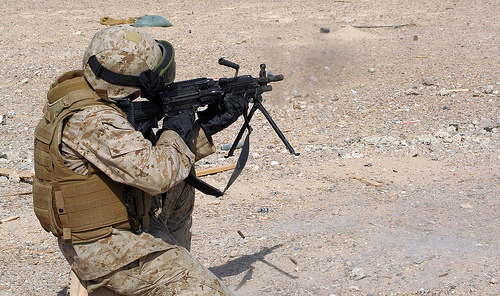rifle: (209, 62, 317, 161)
rifle in hand: (165, 63, 344, 195)
